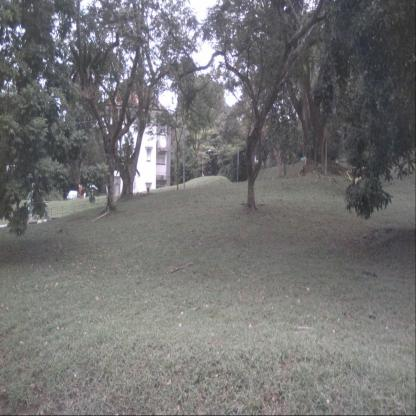vehicle-car: (66, 190, 81, 204)
